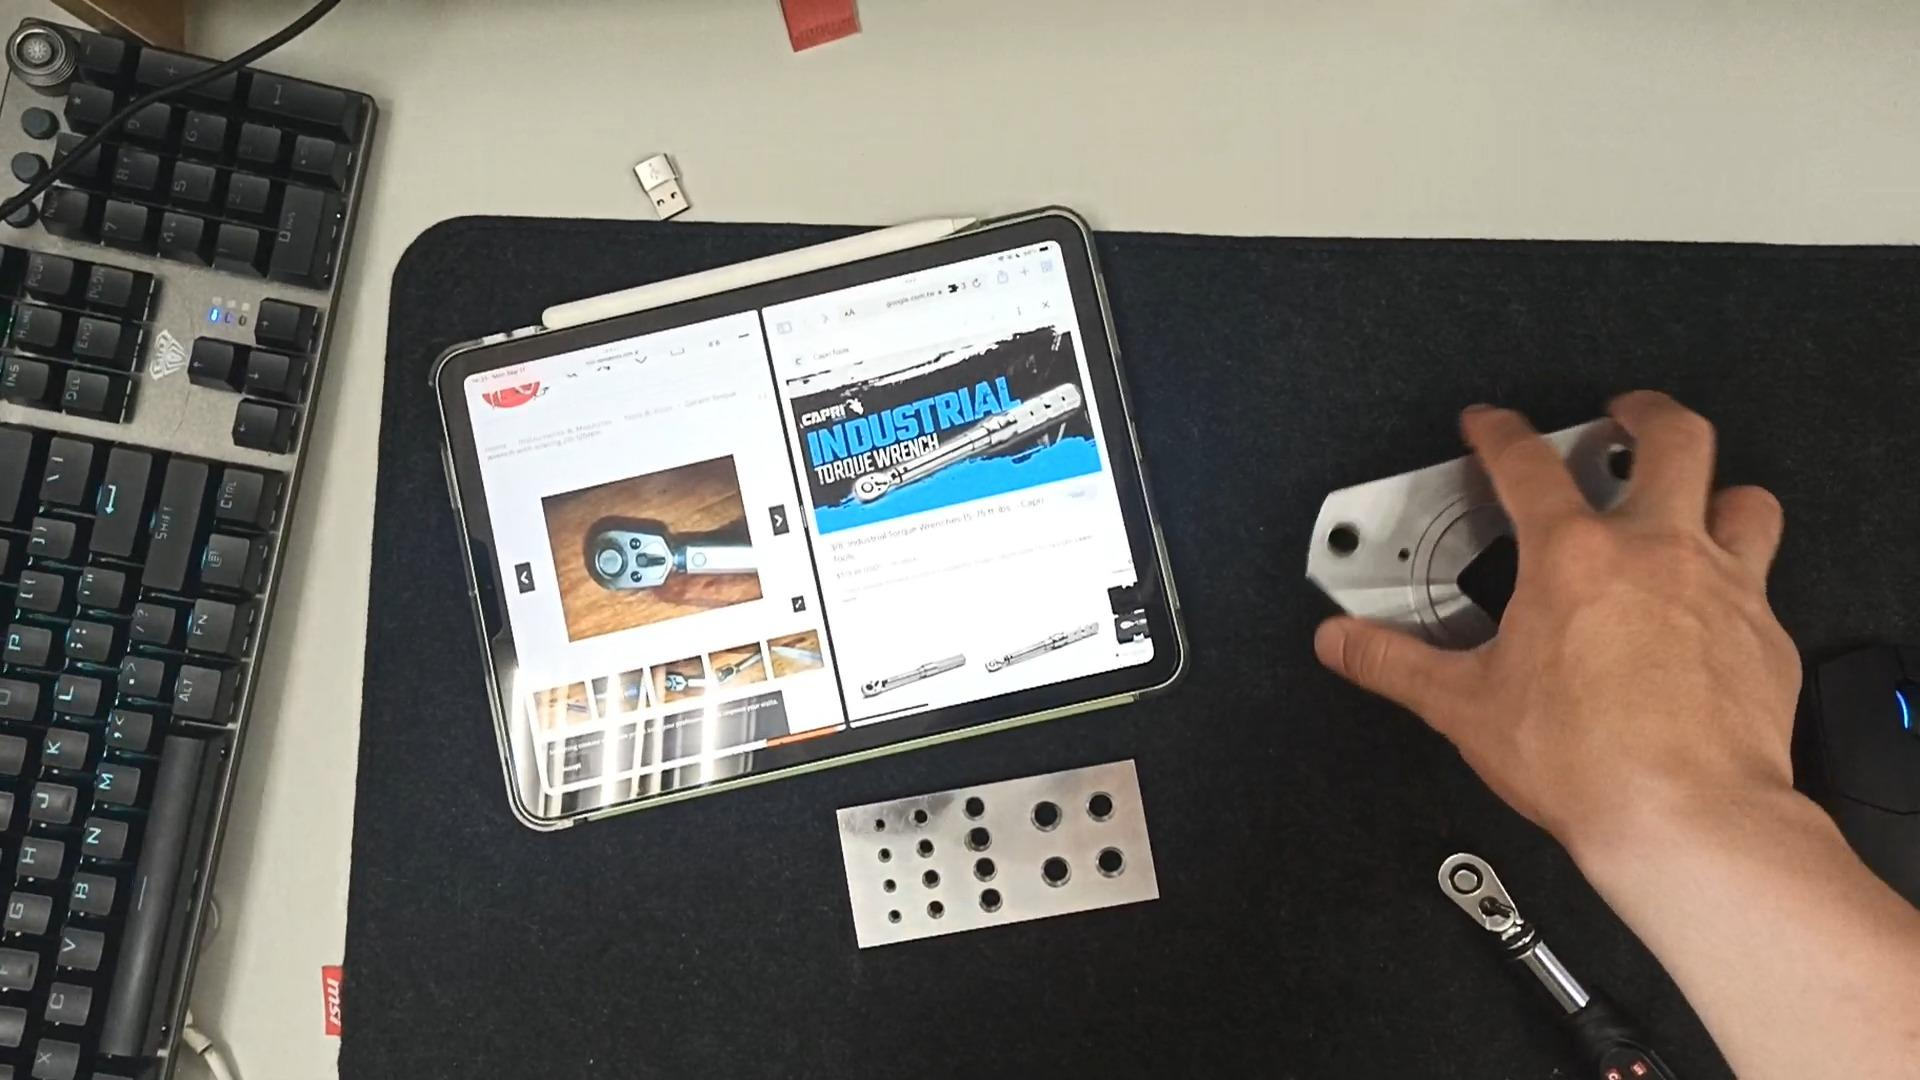Tool: (1429, 849, 1523, 943), (588, 518, 678, 595), (843, 465, 894, 505), (1598, 444, 1642, 487)
hole: (4, 18, 84, 80), (1321, 508, 1378, 562), (1075, 790, 1134, 827), (1083, 841, 1139, 880), (1031, 852, 1084, 887), (1017, 799, 1072, 832), (945, 795, 993, 823), (969, 856, 1015, 884), (973, 886, 1019, 913), (952, 828, 997, 855), (910, 839, 947, 860), (920, 901, 957, 922), (914, 869, 951, 889), (905, 806, 940, 825), (878, 876, 910, 894), (884, 910, 915, 927), (874, 847, 903, 864), (870, 815, 899, 832)
